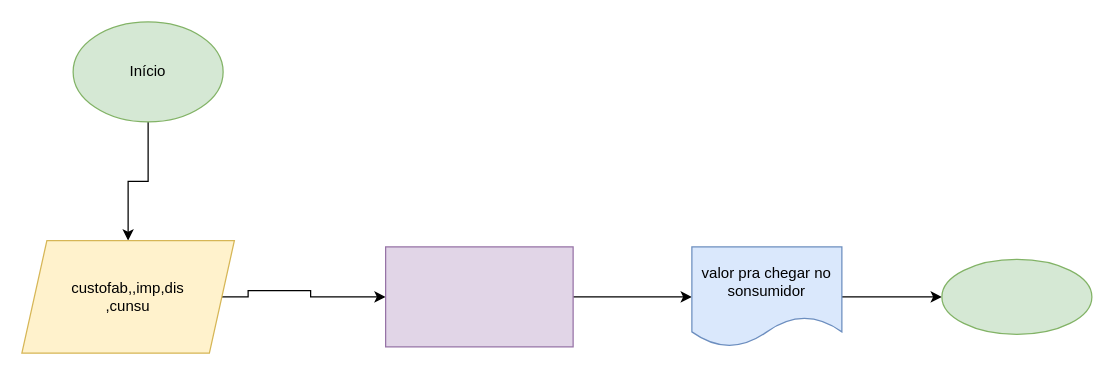
The diagram is 1114 pixels wide and 375 high, and some of its shapes have lost their labels. The shapes that lost their labels are listed below. From the top down, each one's centre as x and y in pixels, then its label:
At pixel 478 296: "imp <- custfab/100*45 dis<- impo/100*28 cuscon<- cusfab+imp+dis".
At pixel 1016 296: "fim".
